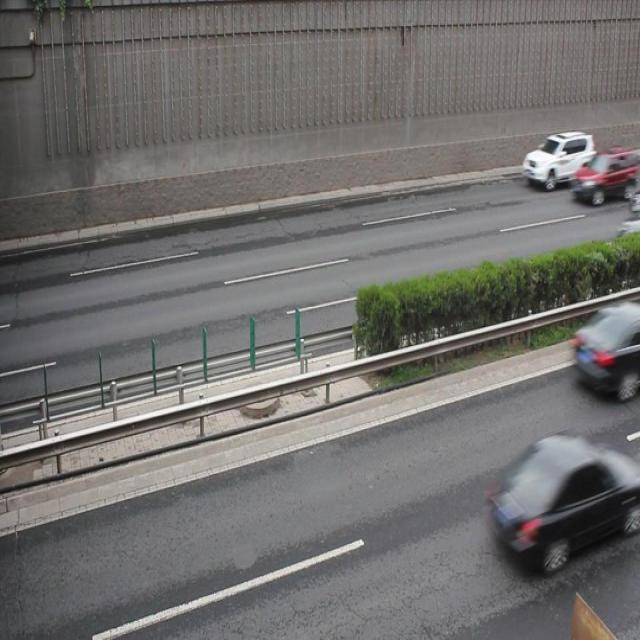car: (491, 433, 631, 573), (571, 304, 640, 395), (522, 131, 594, 188), (571, 150, 640, 204)
